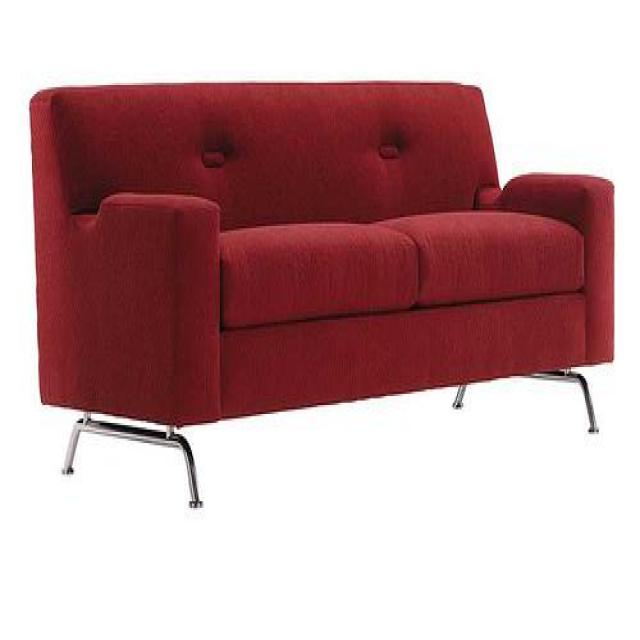sofa: (28, 76, 615, 508)
